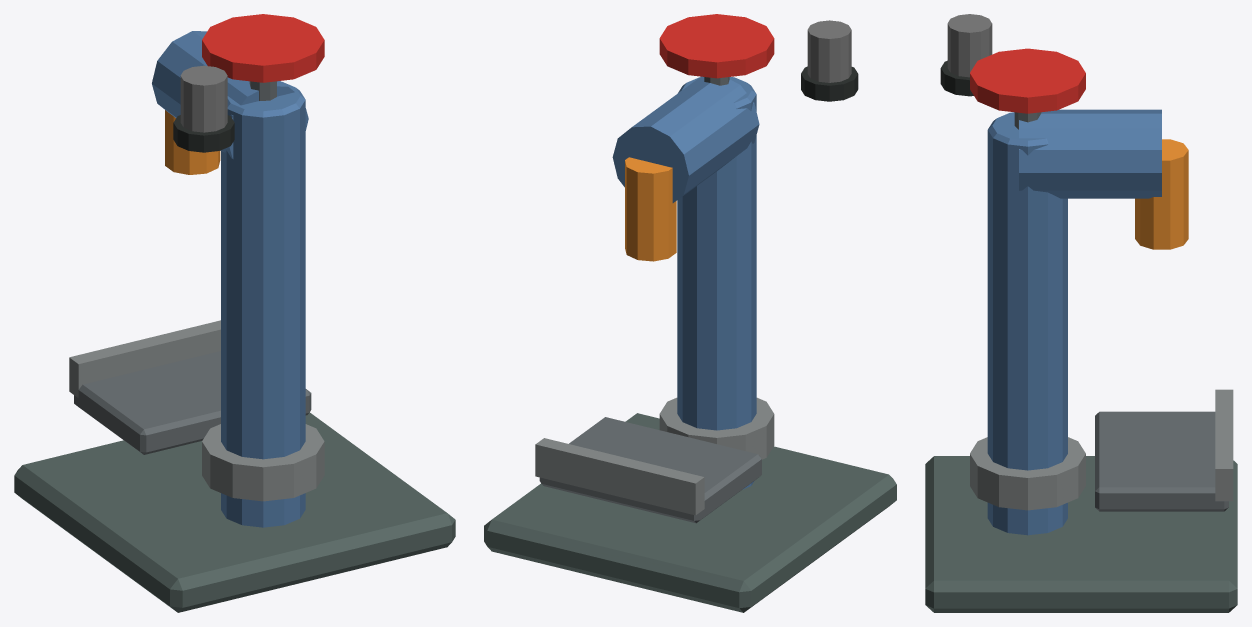
Rendered from water_tap.glb.
3 renders of one model, left to right at view 1: azimuth 30°, elevation 25°; view 2: azimuth 150°, elevation 25°; view 3: azimuth 270°, elevation 25°, orthographic. The views are drawn at different scales.
Visible parts, largest first — view 1: water_tap, Lamp; view 2: water_tap, Lamp; view 3: water_tap, Lamp.
Part boxes in pixels (x1,y1,x2,y2): water_tap: [14, 14, 455, 612]; Lamp: [180, 65, 227, 132]; water_tap: [484, 14, 896, 612]; Lamp: [807, 20, 851, 82]; water_tap: [925, 48, 1237, 612]; Lamp: [947, 14, 992, 77].
Size of the model in its own units: 0.7 by 1.2 by 0.7.
